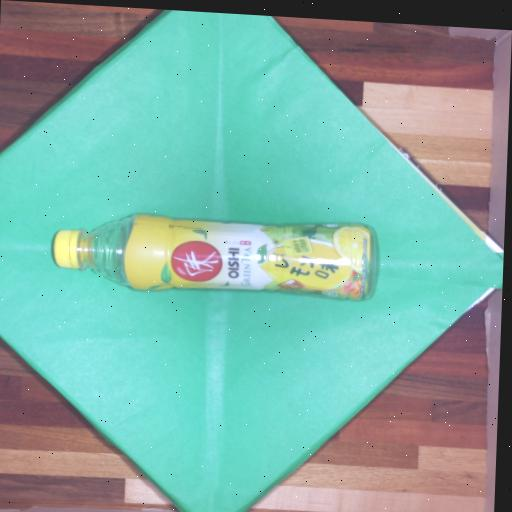bottle: (44, 203, 394, 314)
